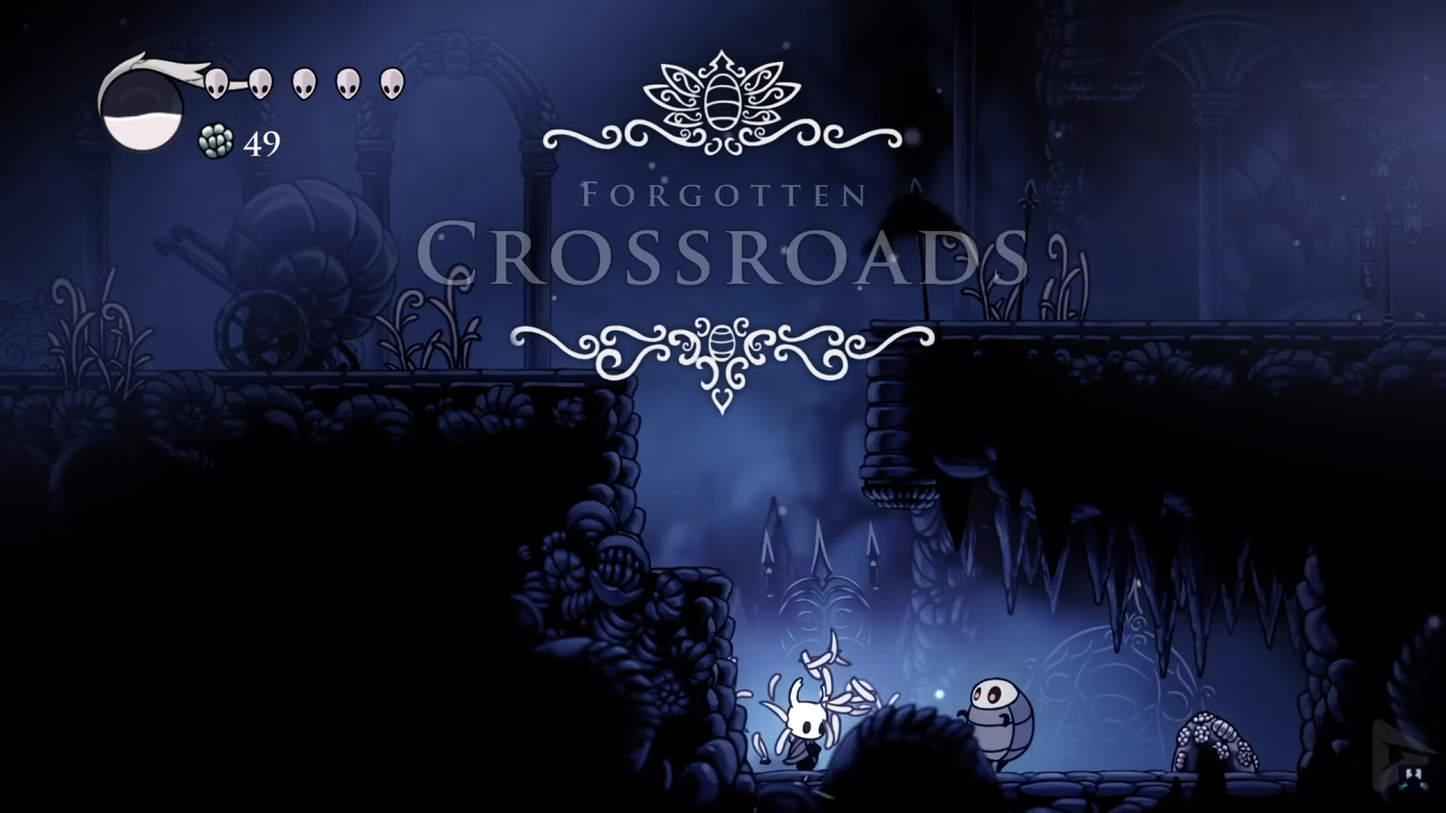HK: (783, 679, 836, 772)
